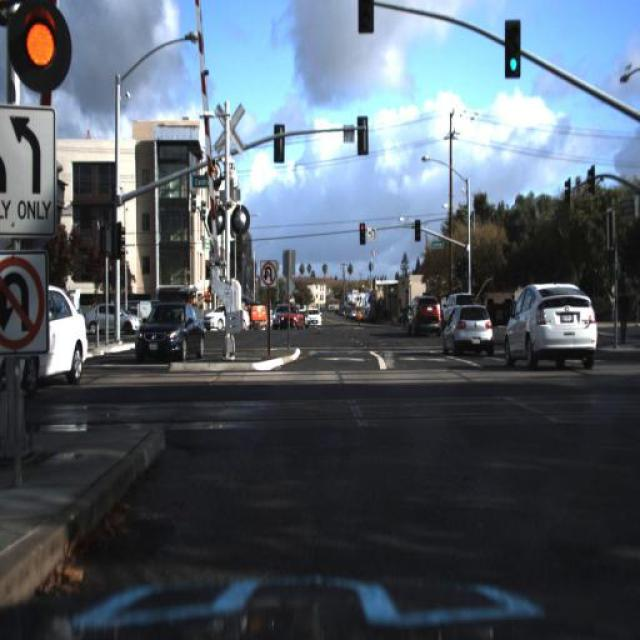car: (501, 279, 601, 372), (0, 284, 91, 385), (126, 302, 212, 369), (443, 297, 495, 353), (81, 300, 145, 338), (403, 289, 443, 336), (198, 300, 250, 336), (278, 305, 304, 334), (443, 288, 468, 311), (305, 305, 323, 333)
trafficLight-Green: (504, 18, 521, 77), (358, 214, 368, 248), (412, 214, 422, 241)
trafficLight-GreenLeft: (459, 250, 470, 280)
trafficLight-RedLeft: (10, 5, 80, 104)
